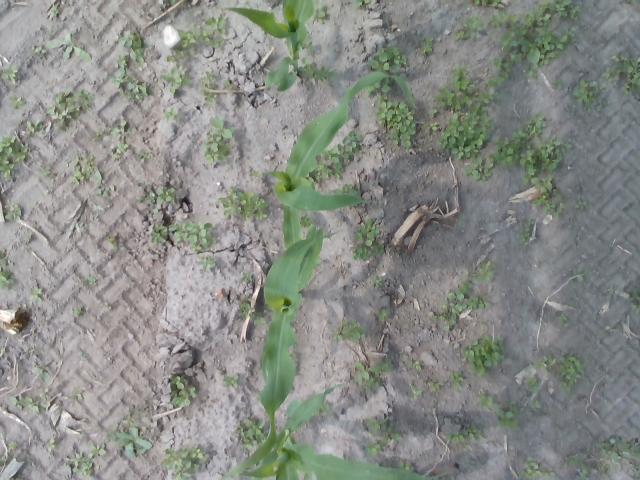Maize: (223, 225, 341, 480), (263, 68, 417, 248), (246, 385, 462, 480), (222, 0, 316, 92)
Weeds: (487, 10, 577, 77), (302, 129, 364, 184), (437, 112, 496, 160), (374, 93, 416, 150), (46, 87, 96, 131), (430, 280, 470, 332), (460, 334, 506, 376), (200, 116, 237, 167), (433, 68, 477, 110), (486, 128, 530, 168), (160, 445, 207, 480), (600, 54, 640, 95), (217, 188, 268, 220), (106, 426, 154, 459), (168, 221, 216, 254), (530, 173, 565, 218), (532, 133, 572, 172), (108, 68, 150, 103), (364, 417, 403, 454), (44, 32, 92, 62), (351, 218, 384, 260), (0, 132, 30, 178), (598, 434, 640, 464), (353, 360, 393, 391), (367, 45, 408, 74), (472, 76, 505, 111), (233, 418, 269, 450), (176, 25, 223, 49), (556, 354, 584, 392), (117, 31, 145, 69), (298, 56, 337, 81), (170, 374, 197, 409), (537, 0, 580, 21), (160, 64, 190, 94), (461, 155, 493, 182), (331, 318, 366, 342), (454, 15, 484, 42), (64, 453, 95, 479), (494, 399, 519, 431), (571, 79, 599, 107), (70, 154, 94, 186), (136, 184, 174, 204), (519, 149, 540, 184), (93, 168, 114, 198), (199, 71, 217, 105), (523, 112, 546, 138), (517, 456, 541, 480), (363, 75, 393, 94), (473, 260, 498, 282), (475, 389, 500, 410), (310, 0, 330, 26), (518, 218, 535, 246), (531, 354, 556, 373), (108, 142, 130, 162), (465, 294, 493, 309), (238, 294, 254, 319), (204, 16, 226, 34), (150, 222, 168, 244), (1, 203, 22, 221), (629, 282, 640, 316), (1, 63, 18, 85), (0, 267, 16, 290), (110, 121, 134, 136), (246, 310, 268, 326), (298, 38, 316, 57), (464, 425, 484, 442), (594, 460, 612, 478), (165, 48, 188, 62), (524, 374, 540, 394), (8, 95, 28, 111), (220, 373, 240, 389), (450, 370, 466, 390), (562, 454, 582, 470), (332, 184, 358, 196), (27, 285, 44, 303), (32, 366, 51, 382), (197, 255, 216, 271), (162, 107, 180, 123), (24, 396, 40, 414), (446, 430, 466, 444), (575, 461, 589, 480), (26, 120, 44, 134), (396, 460, 414, 474), (298, 215, 316, 228), (317, 402, 333, 416), (38, 389, 51, 406), (471, 0, 502, 7), (88, 444, 106, 456), (408, 386, 426, 398), (375, 308, 389, 323), (8, 396, 24, 409), (407, 358, 423, 371), (422, 36, 433, 54), (69, 388, 83, 401), (573, 267, 585, 282), (422, 120, 438, 131), (426, 380, 442, 391), (371, 274, 383, 288), (552, 77, 564, 90), (106, 236, 118, 248), (0, 250, 9, 266), (138, 152, 152, 162), (598, 325, 612, 335), (352, 0, 371, 7), (531, 399, 542, 411), (574, 200, 587, 210), (31, 46, 47, 54), (47, 439, 56, 453), (242, 270, 252, 282), (73, 306, 85, 316), (557, 312, 569, 322), (122, 417, 136, 425), (542, 470, 556, 478), (86, 273, 95, 285), (50, 5, 60, 15), (40, 165, 50, 175), (0, 455, 7, 469), (248, 169, 260, 177), (428, 107, 438, 116), (92, 132, 102, 141), (223, 81, 233, 89), (7, 441, 17, 449), (4, 476, 23, 480), (479, 320, 489, 327), (461, 444, 471, 451), (626, 0, 636, 5), (458, 216, 464, 220)
